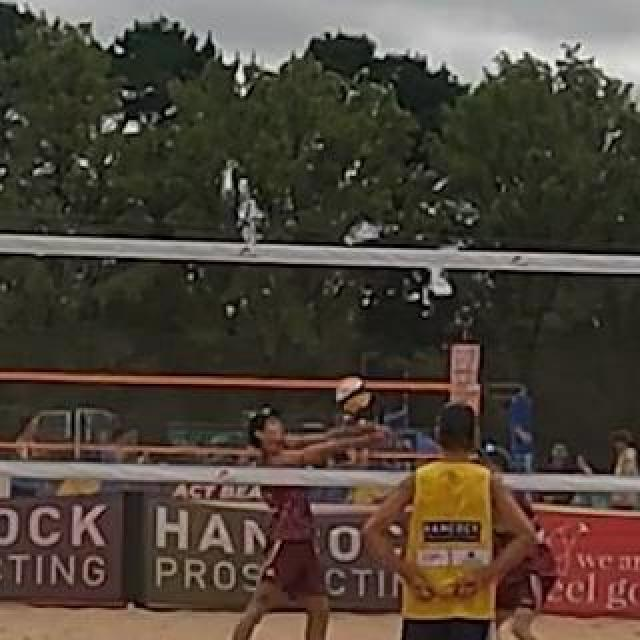volleyball: (336, 377, 370, 411)
